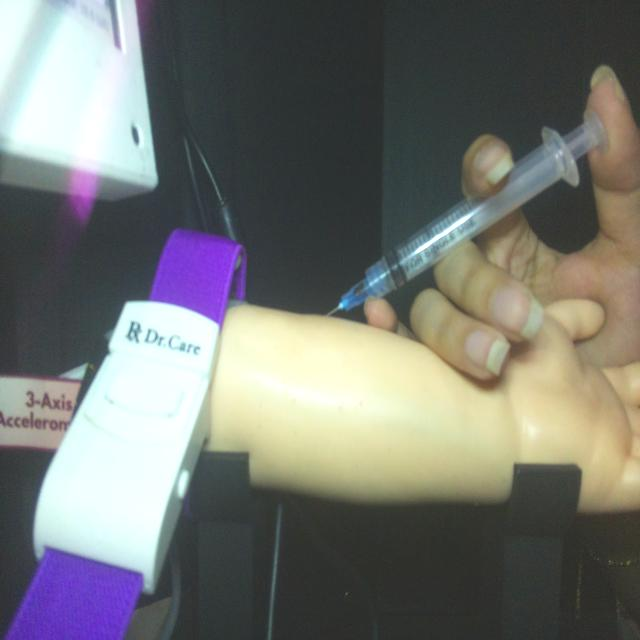26 degrees: (323, 104, 607, 320)
